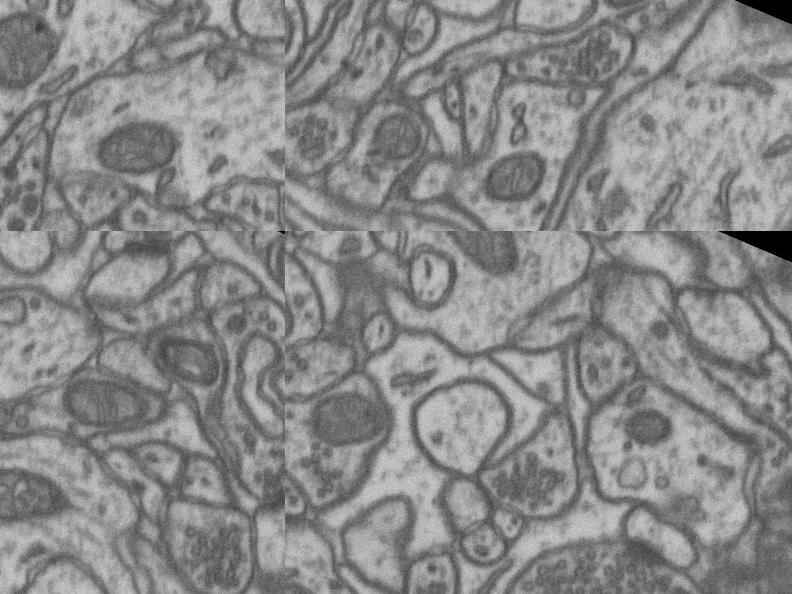mitochondria: (0, 426, 88, 584), (80, 93, 196, 205), (377, 231, 562, 297), (470, 116, 576, 229), (286, 368, 396, 470), (56, 358, 169, 452), (0, 0, 76, 114), (345, 96, 441, 182), (610, 391, 689, 468), (149, 326, 230, 397), (760, 395, 792, 552), (724, 524, 792, 594), (576, 0, 678, 42), (285, 0, 312, 90), (285, 274, 311, 357), (260, 233, 285, 311)
